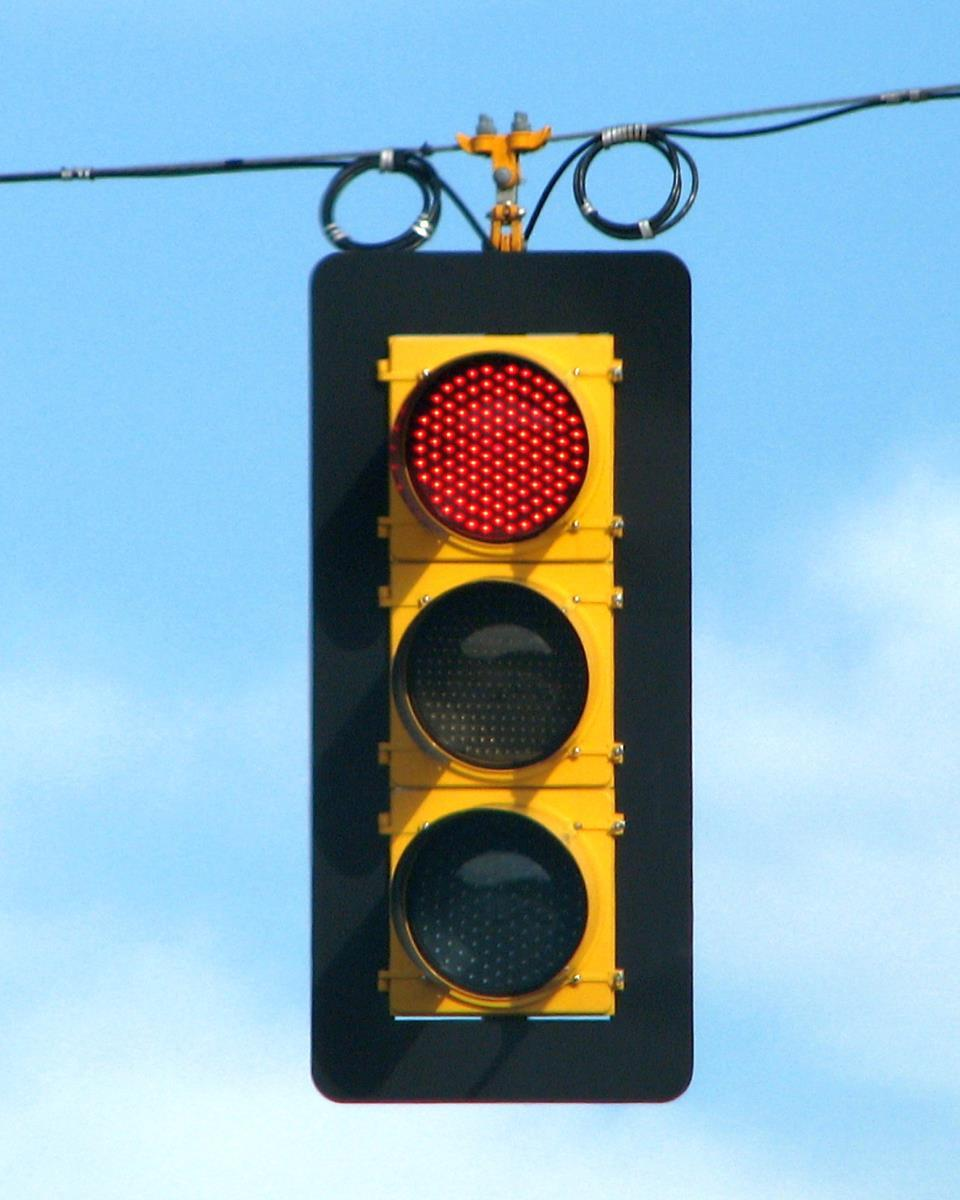red: (250, 233, 720, 1133)
